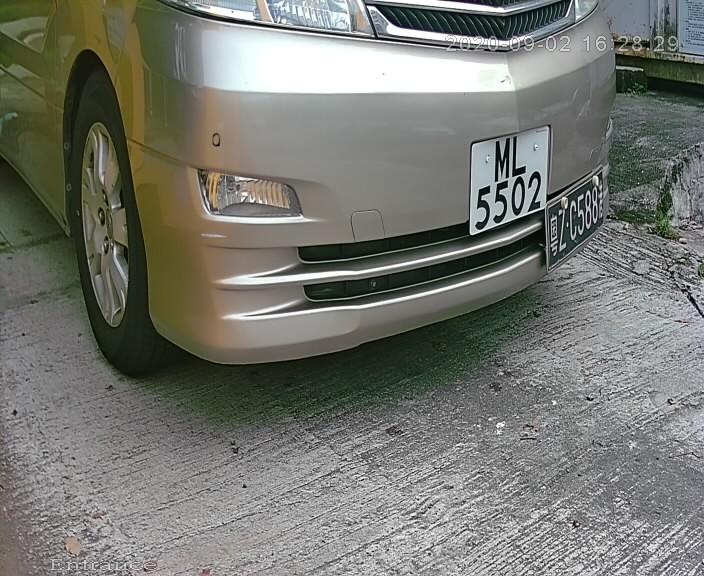License Plate: (463, 121, 557, 247)
